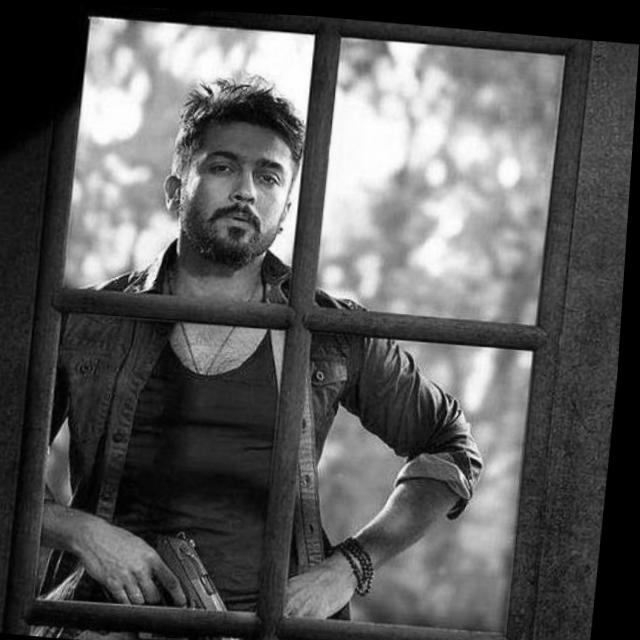weapon: (98, 517, 270, 640)
